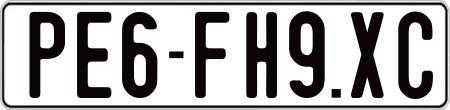6: (119, 11, 156, 102)
9: (289, 11, 325, 104)
C: (395, 12, 433, 99)
E: (74, 12, 111, 100)
F: (195, 10, 233, 99)
H: (245, 9, 281, 96)
P: (28, 9, 66, 97)
X: (350, 11, 383, 97)
